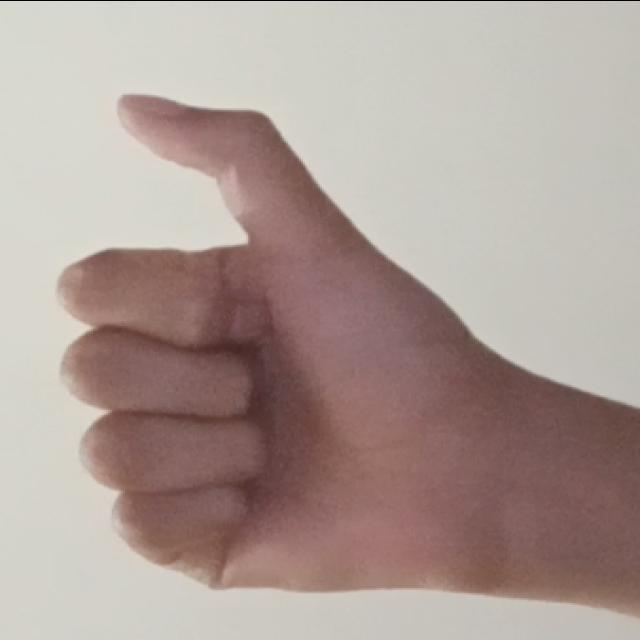A: (41, 82, 496, 610)
